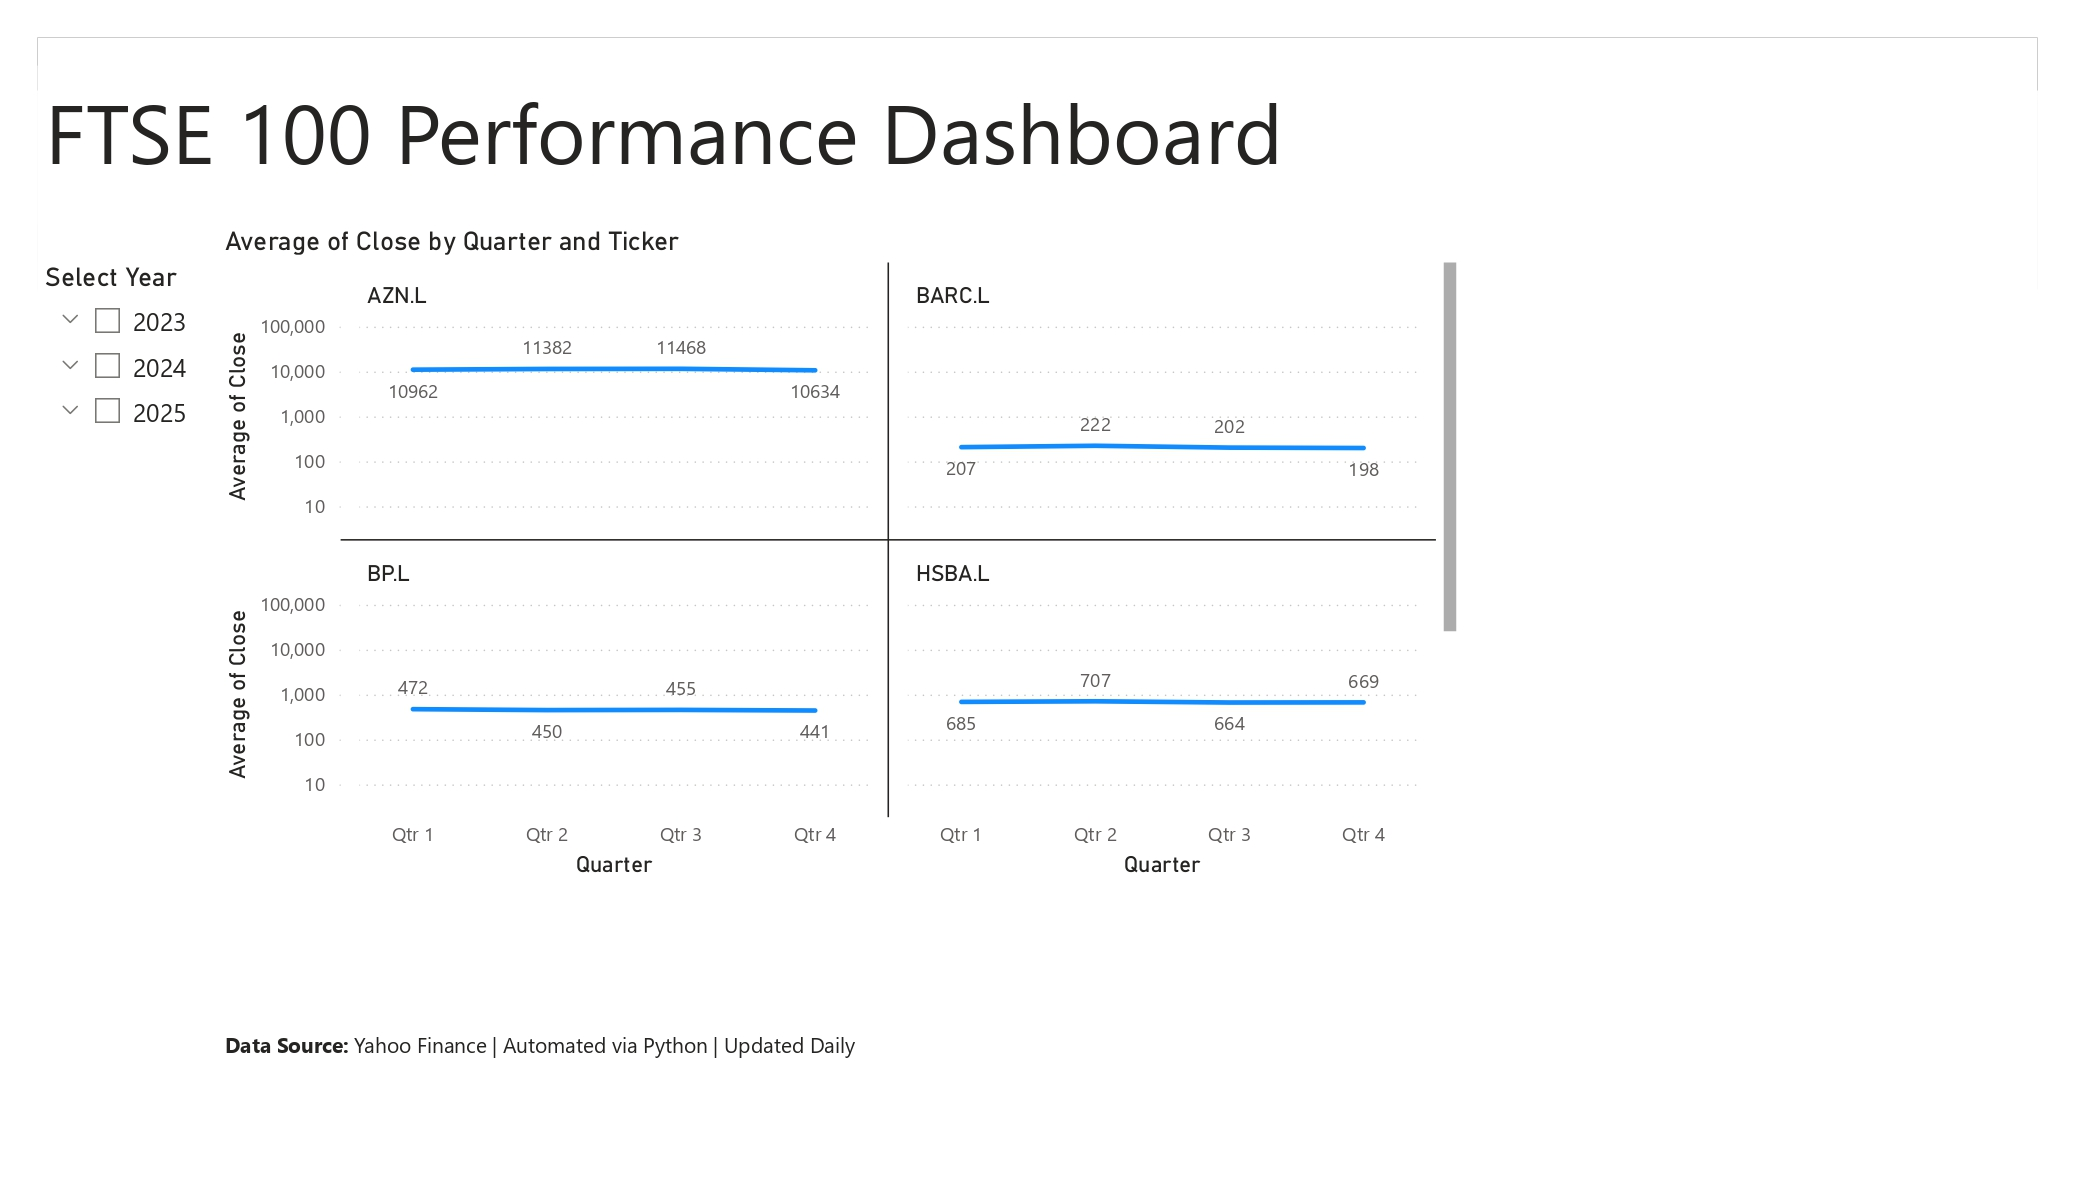

This screenshot's page, from the dashboard's own definition file:
{"tool":"powerbi","page":{"name":"Page 1","canvas":[1280,720],"ordinal":0},"visuals":[{"type":"lineChart","fields":{"Category":["ftse100_stocks.Date.Variation.Date Hierarchy.Quarter","ftse100_stocks.Date.Variation.Date Hierarchy.Month","ftse100_stocks.Date.Variation.Date Hierarchy.Day"],"Y":["Avg(ftse100_stocks.Close)"],"Rows":["ftse100_stocks.Ticker"]},"box":[115,120,798,424],"z":0},{"type":"slicer","title":"Select Year","fields":{"Values":["ftse100_stocks.Date.Variation.Date Hierarchy.Year","ftse100_stocks.Date.Variation.Date Hierarchy.Quarter","ftse100_stocks.Date.Variation.Date Hierarchy.Month","ftse100_stocks.Date.Variation.Date Hierarchy.Day"]},"box":[0,143,115,120],"z":1000},{"type":"textbox","box":[0,18,913,102],"z":2000},{"type":"textbox","box":[115,631,773,35],"z":2001}]}

Visuals, with their boxes in screenshot pixels (x1, y1, x2, y2):
lineChart - ftse100_stocks.Date.Variation.Date Hierarchy.Quarter x ftse100_stocks.Date.Variation.Date Hierarchy.Month: bbox=(217, 225, 1464, 888)
"Select Year" slicer: bbox=(38, 261, 217, 448)
textbox: bbox=(38, 66, 1464, 225)
textbox: bbox=(217, 1023, 1425, 1078)
